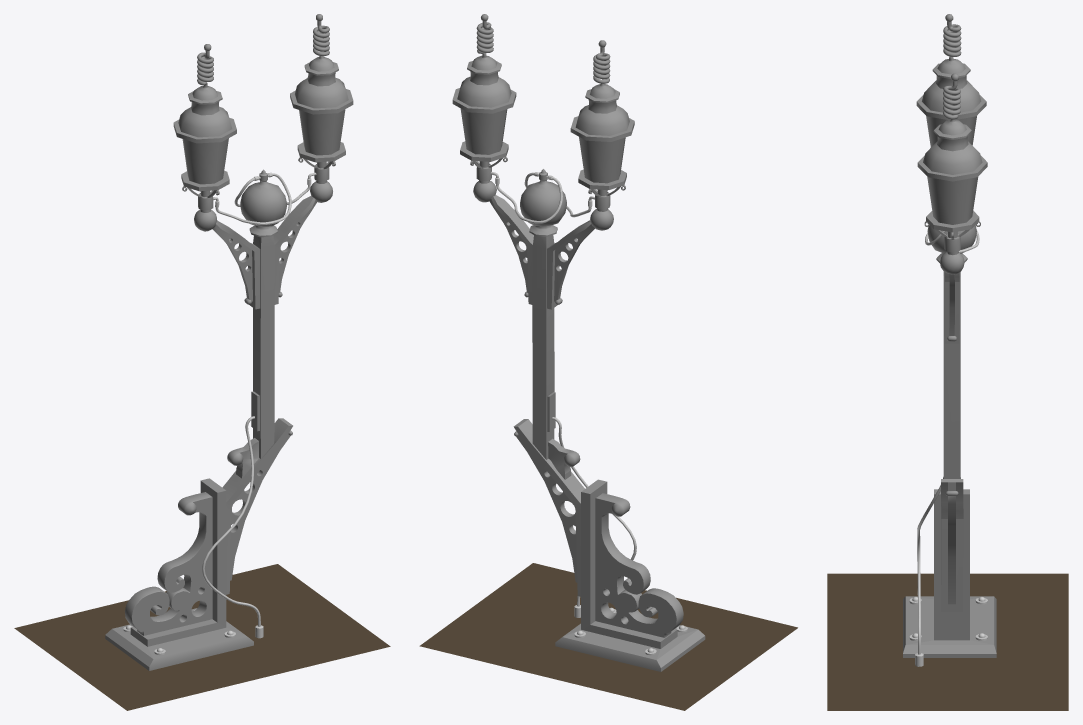
Rendered from StStreetLight.dae.
The picture shows the model from 3 angles, left to right: view 1: azimuth 30°, elevation 25°; view 2: azimuth 150°, elevation 25°; view 3: azimuth 270°, elevation 25°; orthographic projection. The views are drawn at different scales.
Visible parts, largest first — view 1: Main_Low, Plane004, Glass_Low, Kabel_Low; view 2: Main_Low, Plane004, Glass_Low, Kabel_Low; view 3: Plane004, Main_Low, Glass_Low, Kabel_Low.
Part boxes in pixels (x1,y1,x2,y2): Main_Low: (105,14,353,670); Plane004: (14,564,390,710); Glass_Low: (182,109,345,184); Kabel_Low: (202,172,316,638); Main_Low: (452,14,705,671); Plane004: (419,563,797,710); Glass_Low: (460,108,625,183); Kabel_Low: (490,171,636,617); Plane004: (827,573,1068,710); Main_Low: (903,14,996,657); Glass_Low: (926,116,978,224); Kabel_Low: (915,230,979,666).
Size of the model in its own units: 0.9967 by 2 by 0.6929.
